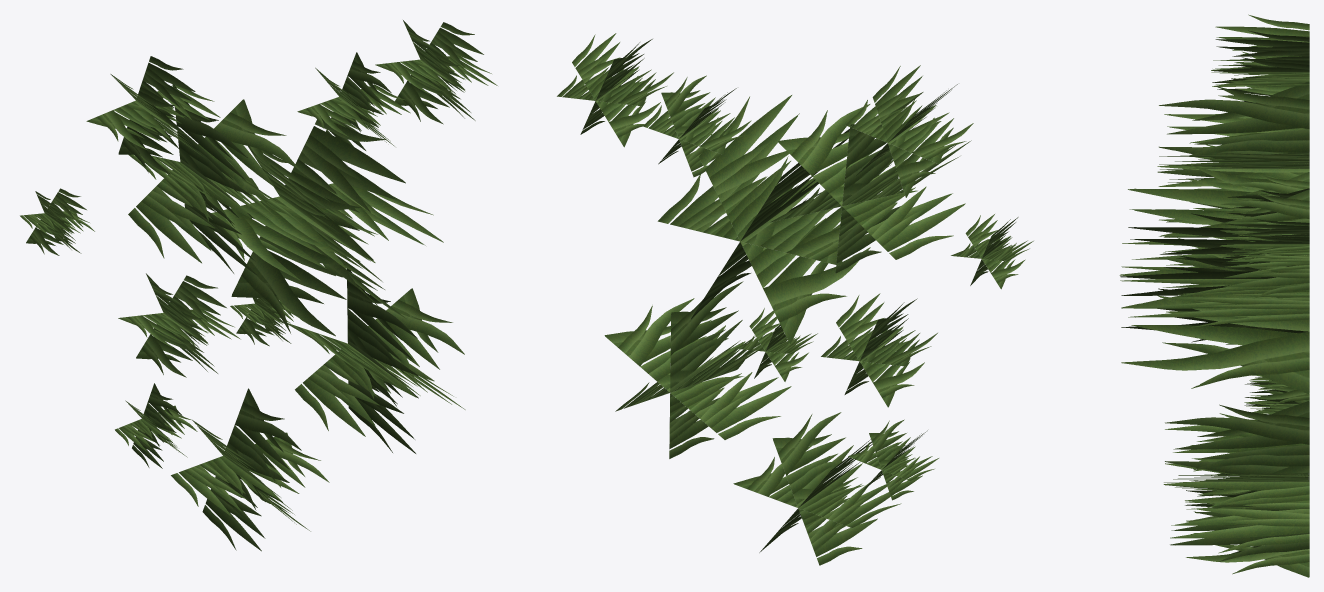
The model's file is GrassPatch.fbx.
3 renders of one model, left to right at view 1: azimuth 30°, elevation 25°; view 2: azimuth 150°, elevation 25°; view 3: azimuth 270°, elevation 25°, orthographic. The views are drawn at different scales.
Visible parts, largest first — view 1: GrassPatch; view 2: GrassPatch; view 3: GrassPatch.
Part boxes in pixels (x1,y1,x2,y2): GrassPatch: (20, 20, 497, 551); GrassPatch: (557, 33, 1033, 565); GrassPatch: (1119, 14, 1309, 577).
Size of the model in its own units: 116 by 120 by 50.
